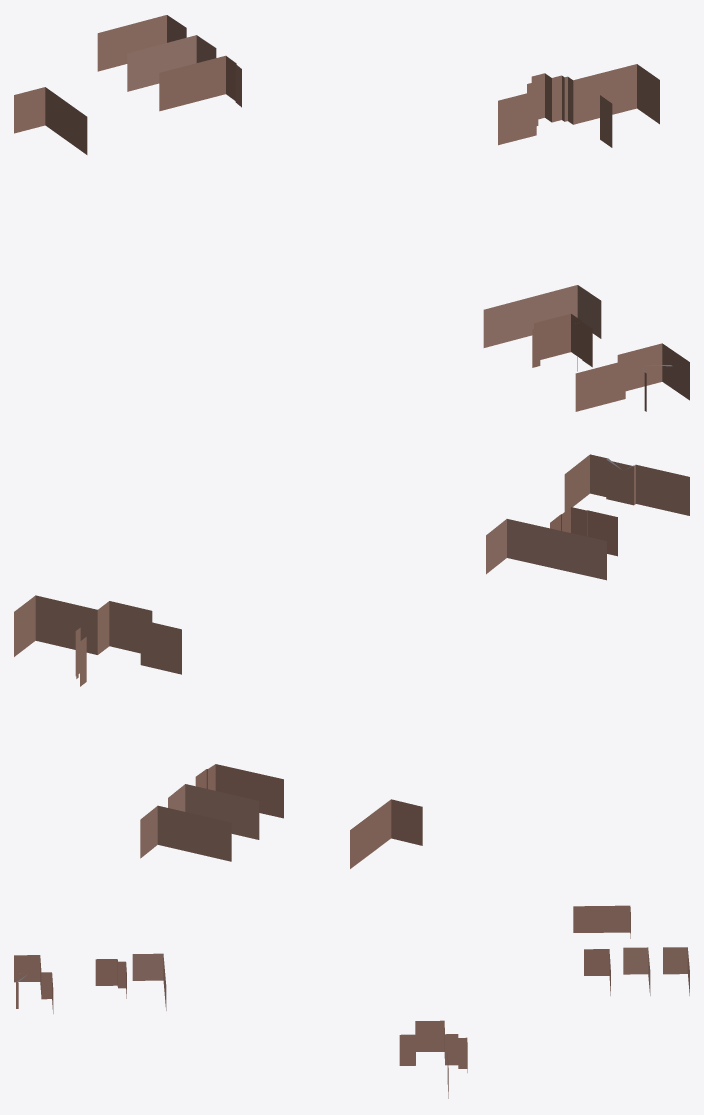
File: c_1633_17825_buildings_residential.glb
3 renders of one model, top to bottom at view 1: azimuth 30°, elevation 25°; view 2: azimuth 150°, elevation 25°; view 3: azimuth 270°, elevation 25°, orthographic. The views are drawn at different scales.
Parts seen in each view (by area): view 1: geometry_0; view 2: geometry_0; view 3: geometry_0.
Part boxes in pixels (x1,y1,x2,y2): geometry_0: (14,15,689,411); geometry_0: (14,454,689,868); geometry_0: (14,905,689,1098).
Bounding box in the file's own units: 127 × 11.83 × 217.
